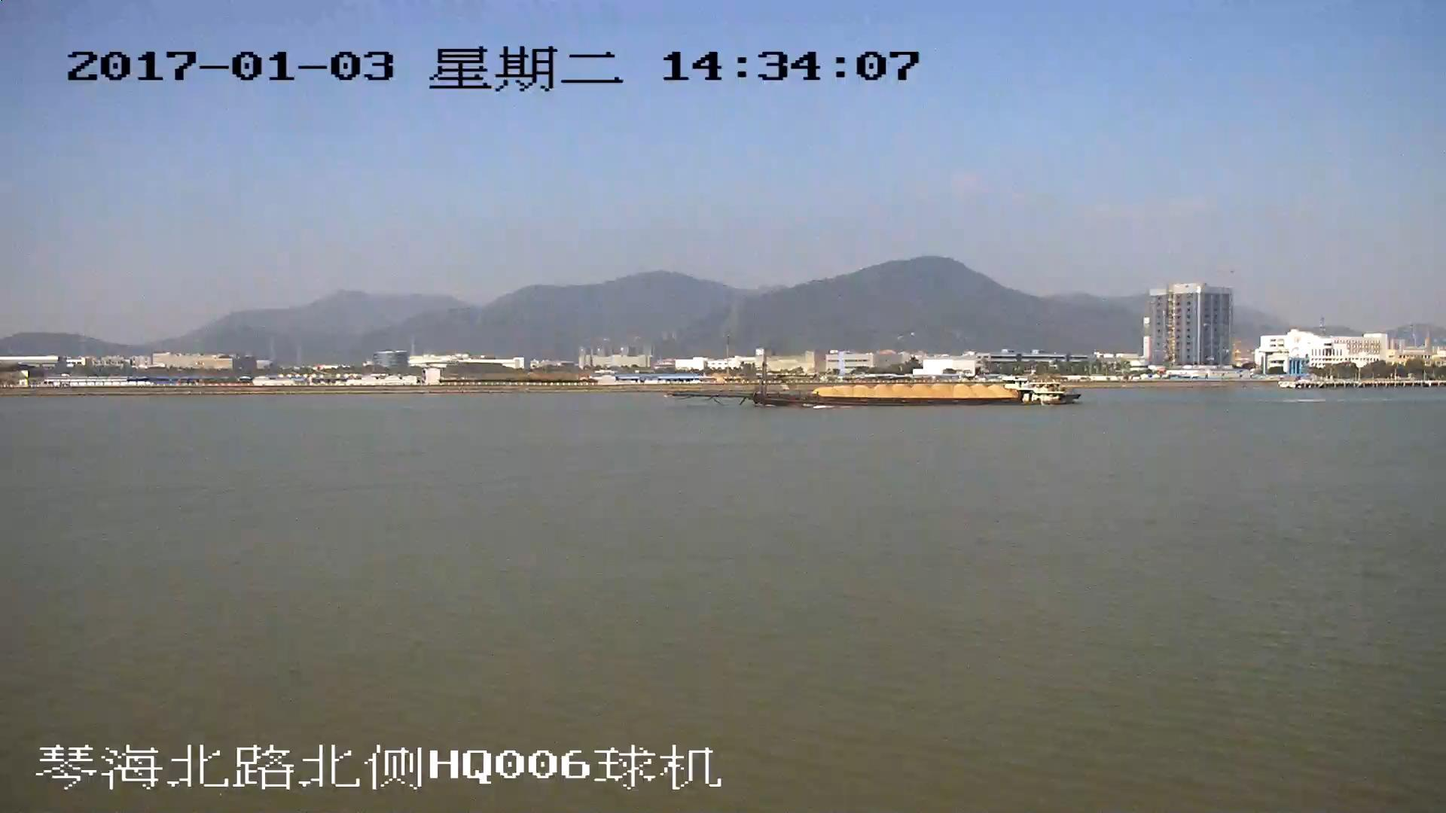ore carrier: (670, 367, 1078, 406)
